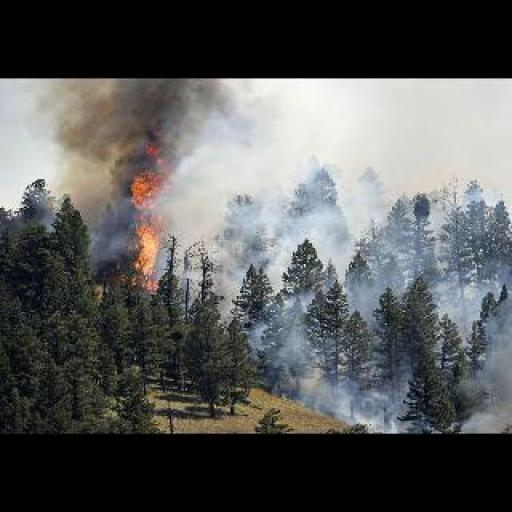smoke: (46, 78, 133, 276), (122, 134, 190, 296), (141, 77, 238, 179)
